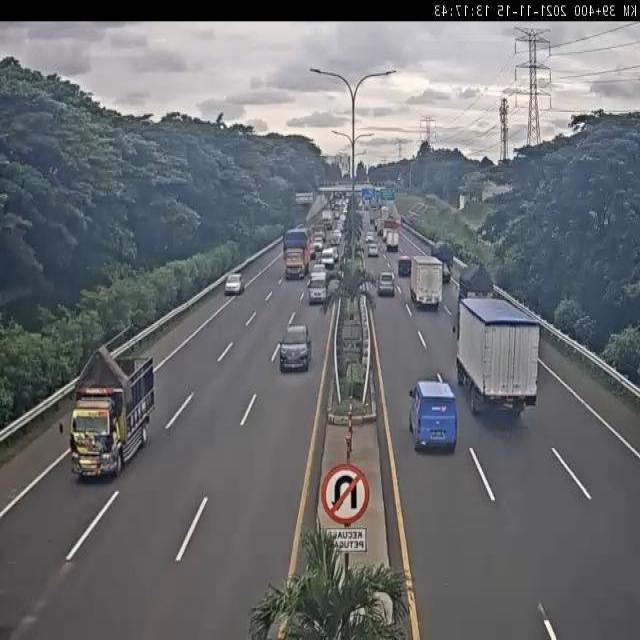Car: (279, 327, 313, 372), (377, 271, 396, 296), (224, 274, 244, 296), (311, 263, 326, 280), (442, 263, 452, 283), (313, 240, 323, 256), (368, 243, 378, 257)
Truck: (69, 347, 158, 482), (452, 297, 540, 418), (410, 254, 444, 310), (282, 226, 312, 280), (458, 262, 496, 300), (386, 229, 399, 252)
Van: (408, 379, 458, 452), (307, 273, 328, 305), (321, 248, 337, 270)
